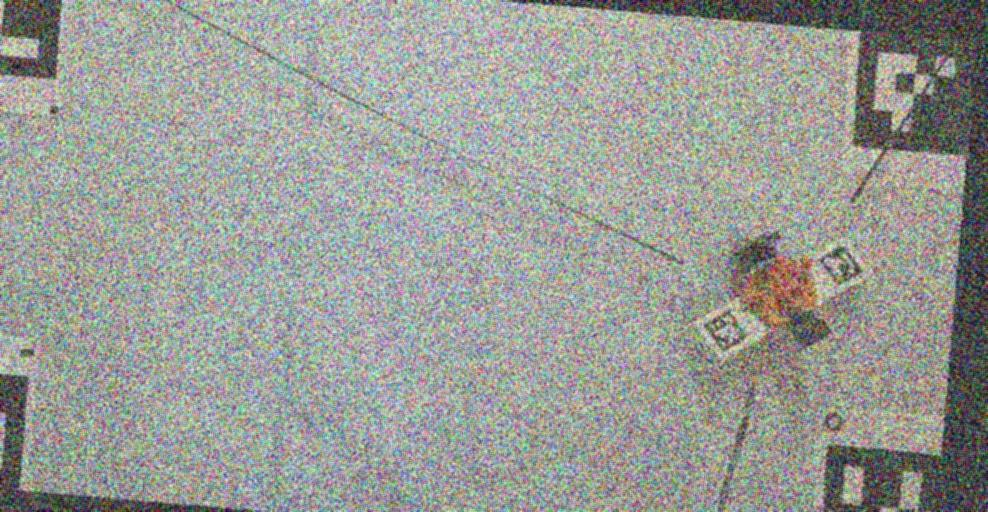robot: (730, 232, 830, 349)
